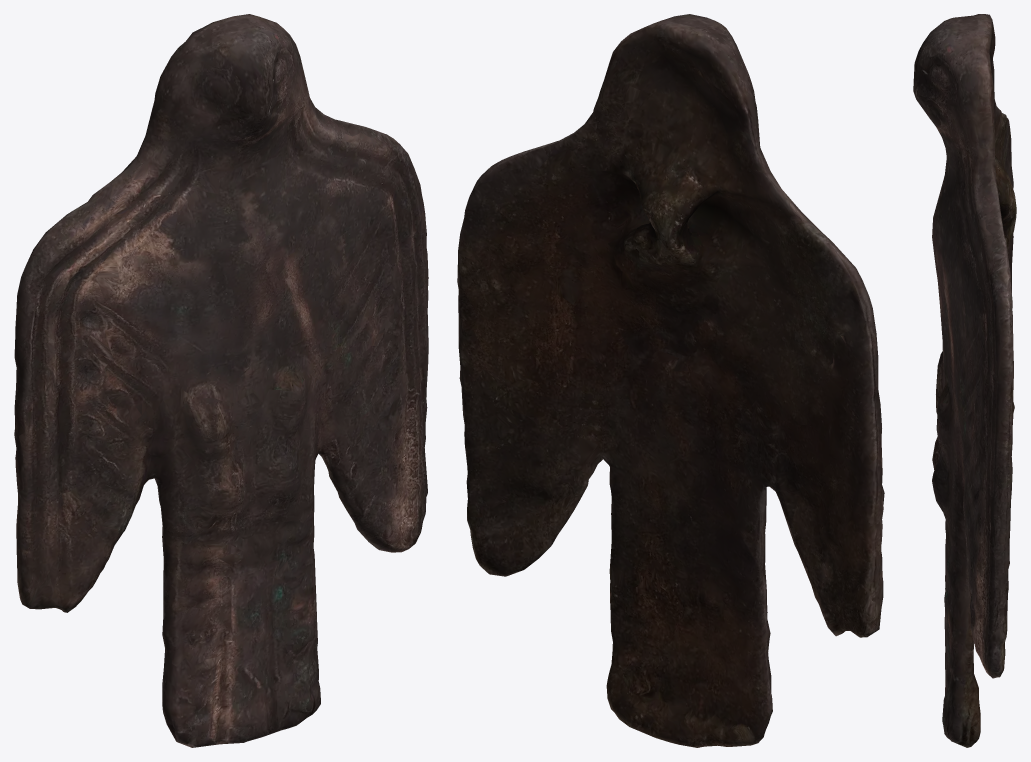
Rendered from bird1_low_re-transformed.glb.
3 views of the same model, side by side, from view 1: azimuth 30°, elevation 25°; view 2: azimuth 150°, elevation 25°; view 3: azimuth 270°, elevation 25° (orthographic). The views are drawn at different scales.
Visible parts, largest first — view 1: Model; view 2: Model; view 3: Model.
Part boxes in pixels (left/top/right/bottom): Model: left=14, top=14, right=428, bottom=747; Model: left=457, top=14, right=884, bottom=747; Model: left=913, top=14, right=1016, bottom=747.
Bounding box in the file's own units: 5.46 × 9.04 × 1.21.
1 material, 1 textured.
